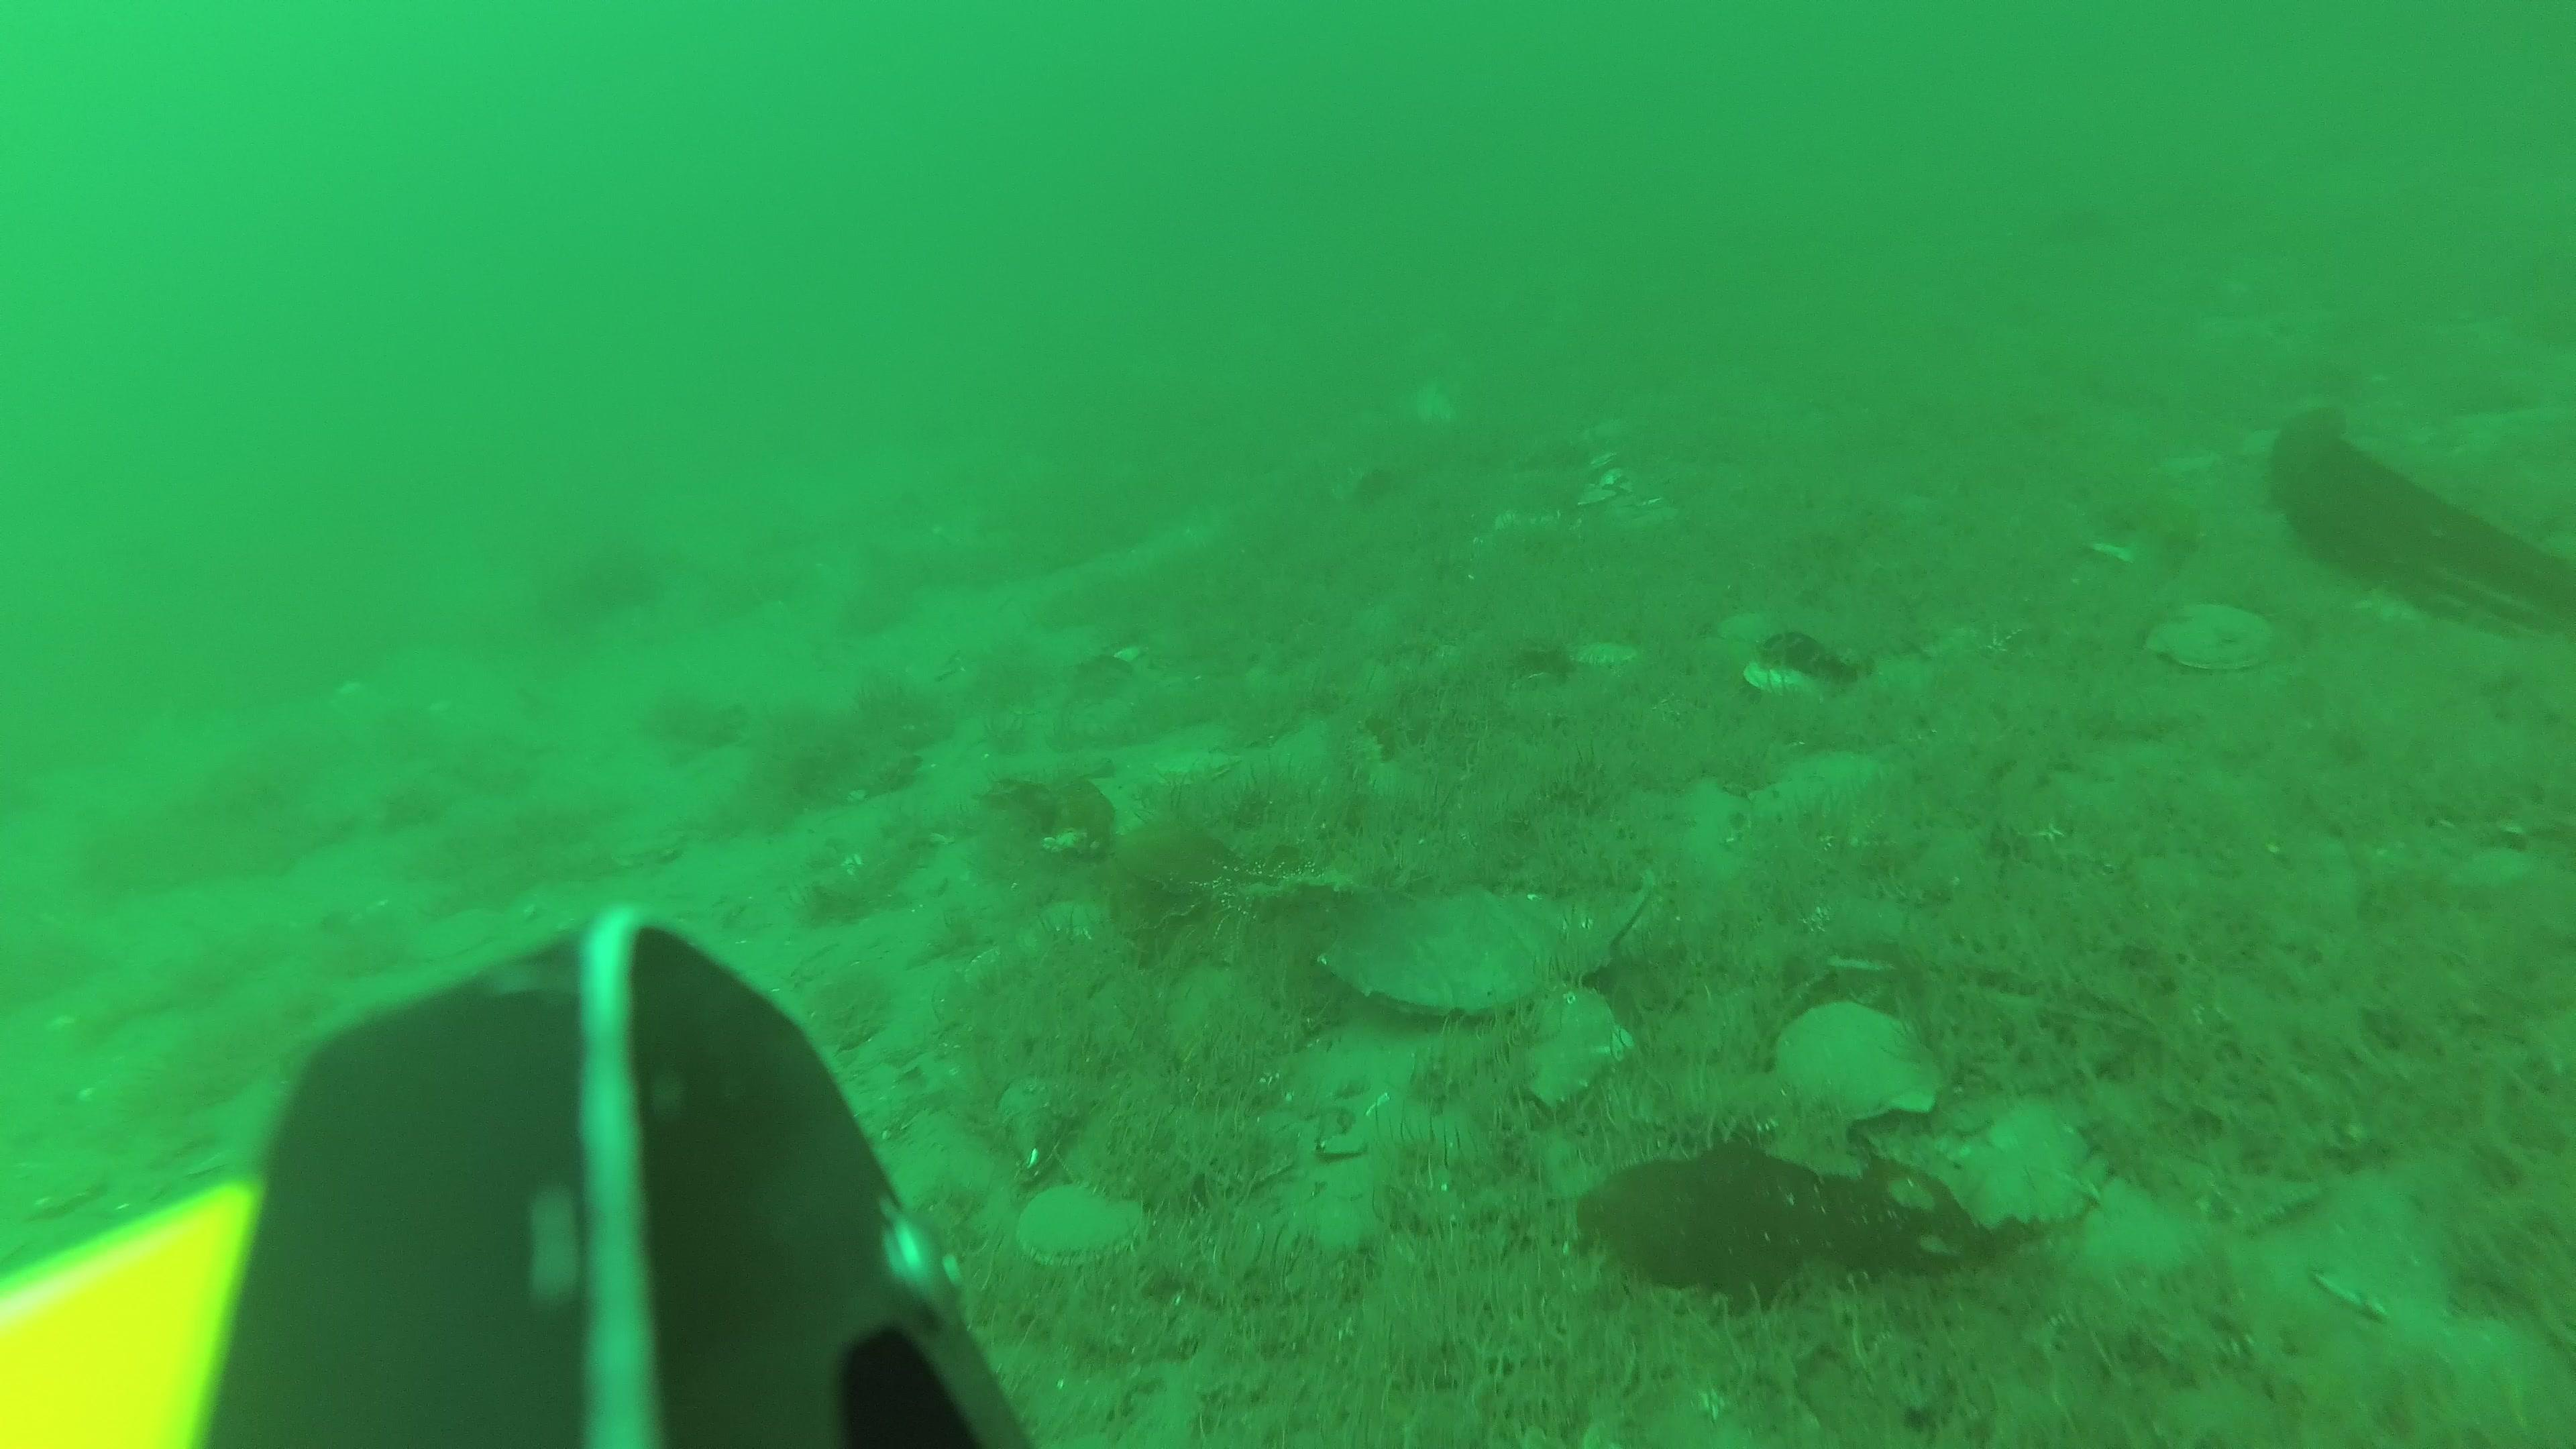scallop: (1780, 998, 1937, 1127), (1507, 987, 1629, 1109), (1024, 1180, 1141, 1265), (2146, 600, 2277, 674), (1152, 747, 1240, 791), (1746, 655, 1826, 699)
